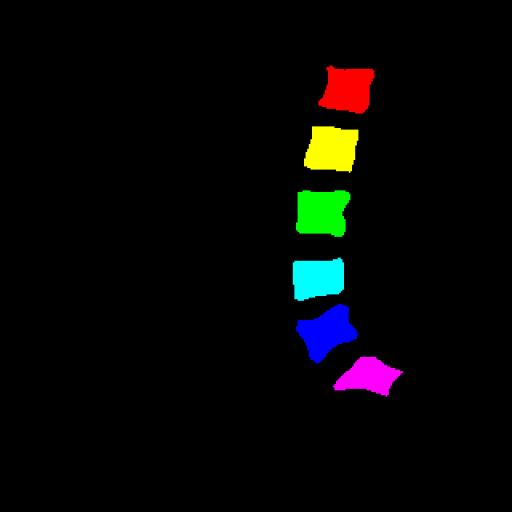L1: (318, 66, 374, 114)
L2: (304, 126, 358, 172)
L3: (296, 190, 350, 237)
L4: (293, 258, 344, 301)
L5: (296, 305, 358, 363)
S1: (333, 357, 403, 396)
